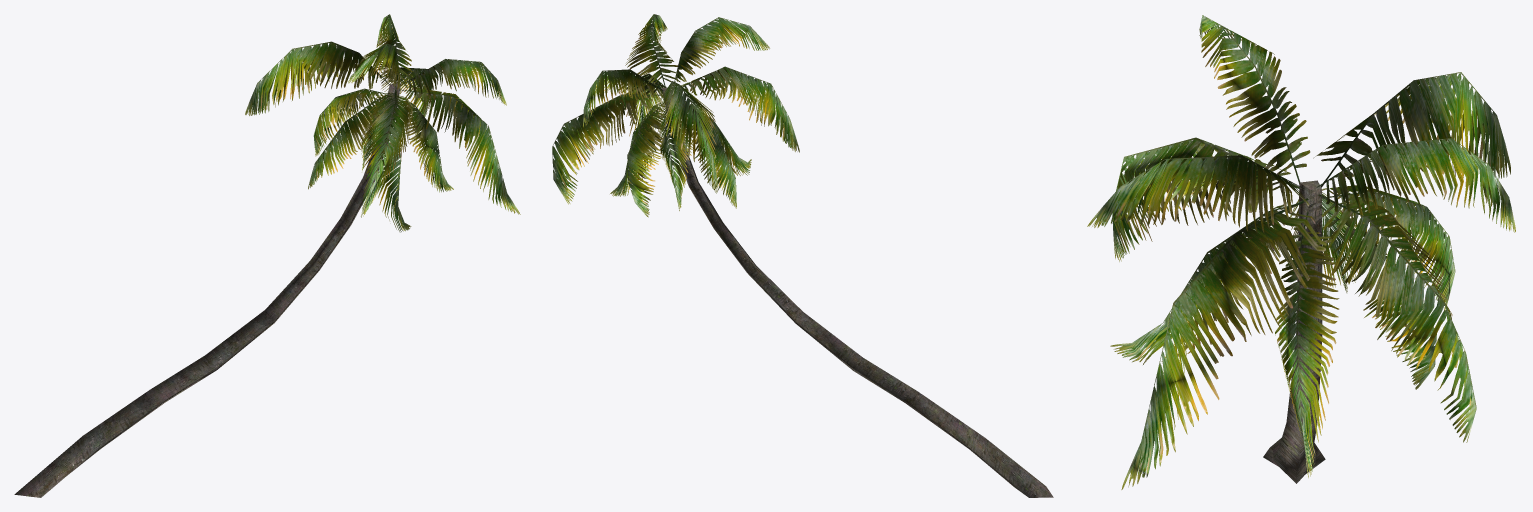
The model's file is Vegetation_Yztree01.glb.
3 renders of one model, left to right at view 1: azimuth 30°, elevation 25°; view 2: azimuth 150°, elevation 25°; view 3: azimuth 270°, elevation 25°, orthographic. The views are drawn at different scales.
Visible parts, largest first — view 1: xiutz_yztree01; view 2: xiutz_yztree01; view 3: xiutz_yztree01.
Boxes of the visible parts, x1=… form: xiutz_yztree01: x1=14, y1=14, x2=520, y2=497; xiutz_yztree01: x1=552, y1=14, x2=1053, y2=497; xiutz_yztree01: x1=1087, y1=15, x2=1515, y2=489.
Bounding box in the file's own units: 29.1 × 22.79 × 11.86.
Materials: 1 (1 with a texture image).
